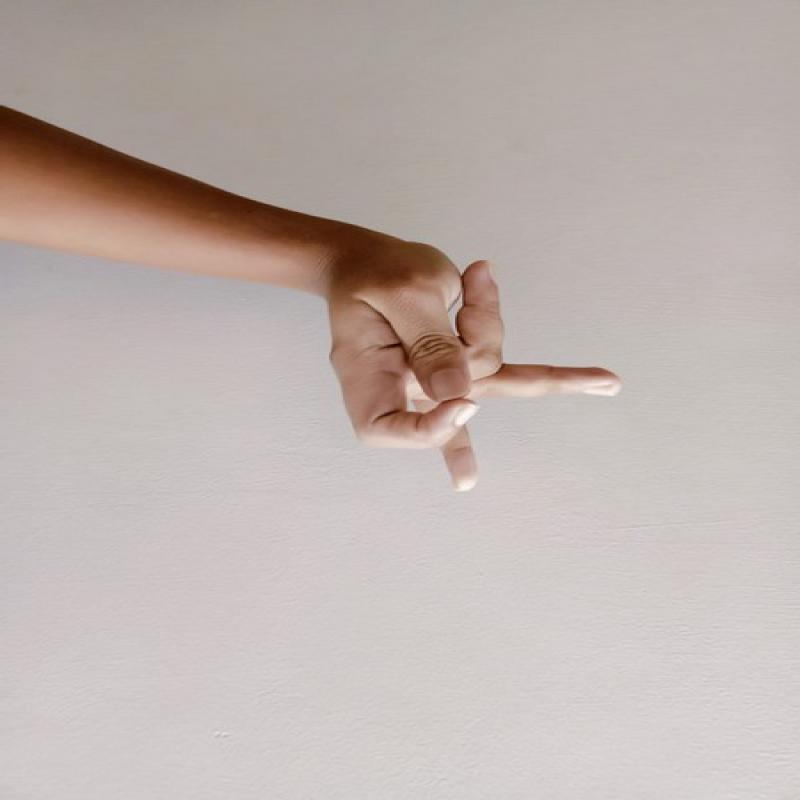Katakam: (301, 239, 635, 498)
